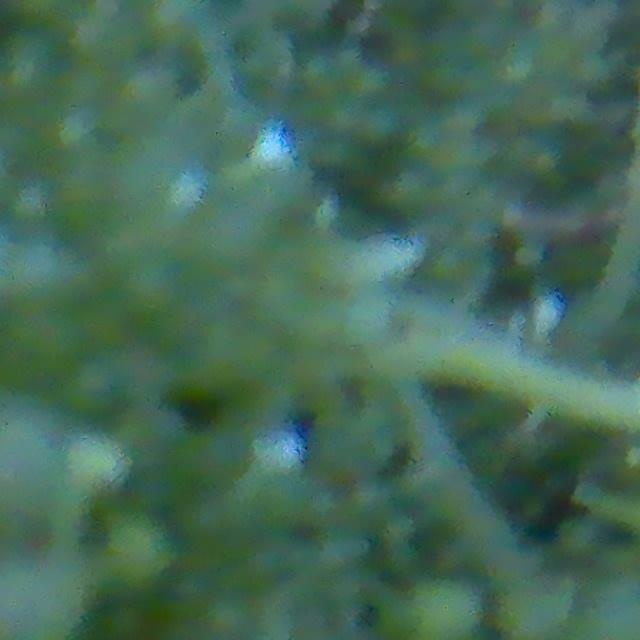SeaGrape: (0, 557, 94, 640), (107, 522, 180, 587), (414, 575, 483, 640), (120, 59, 181, 118), (0, 32, 54, 94), (8, 235, 64, 294)
